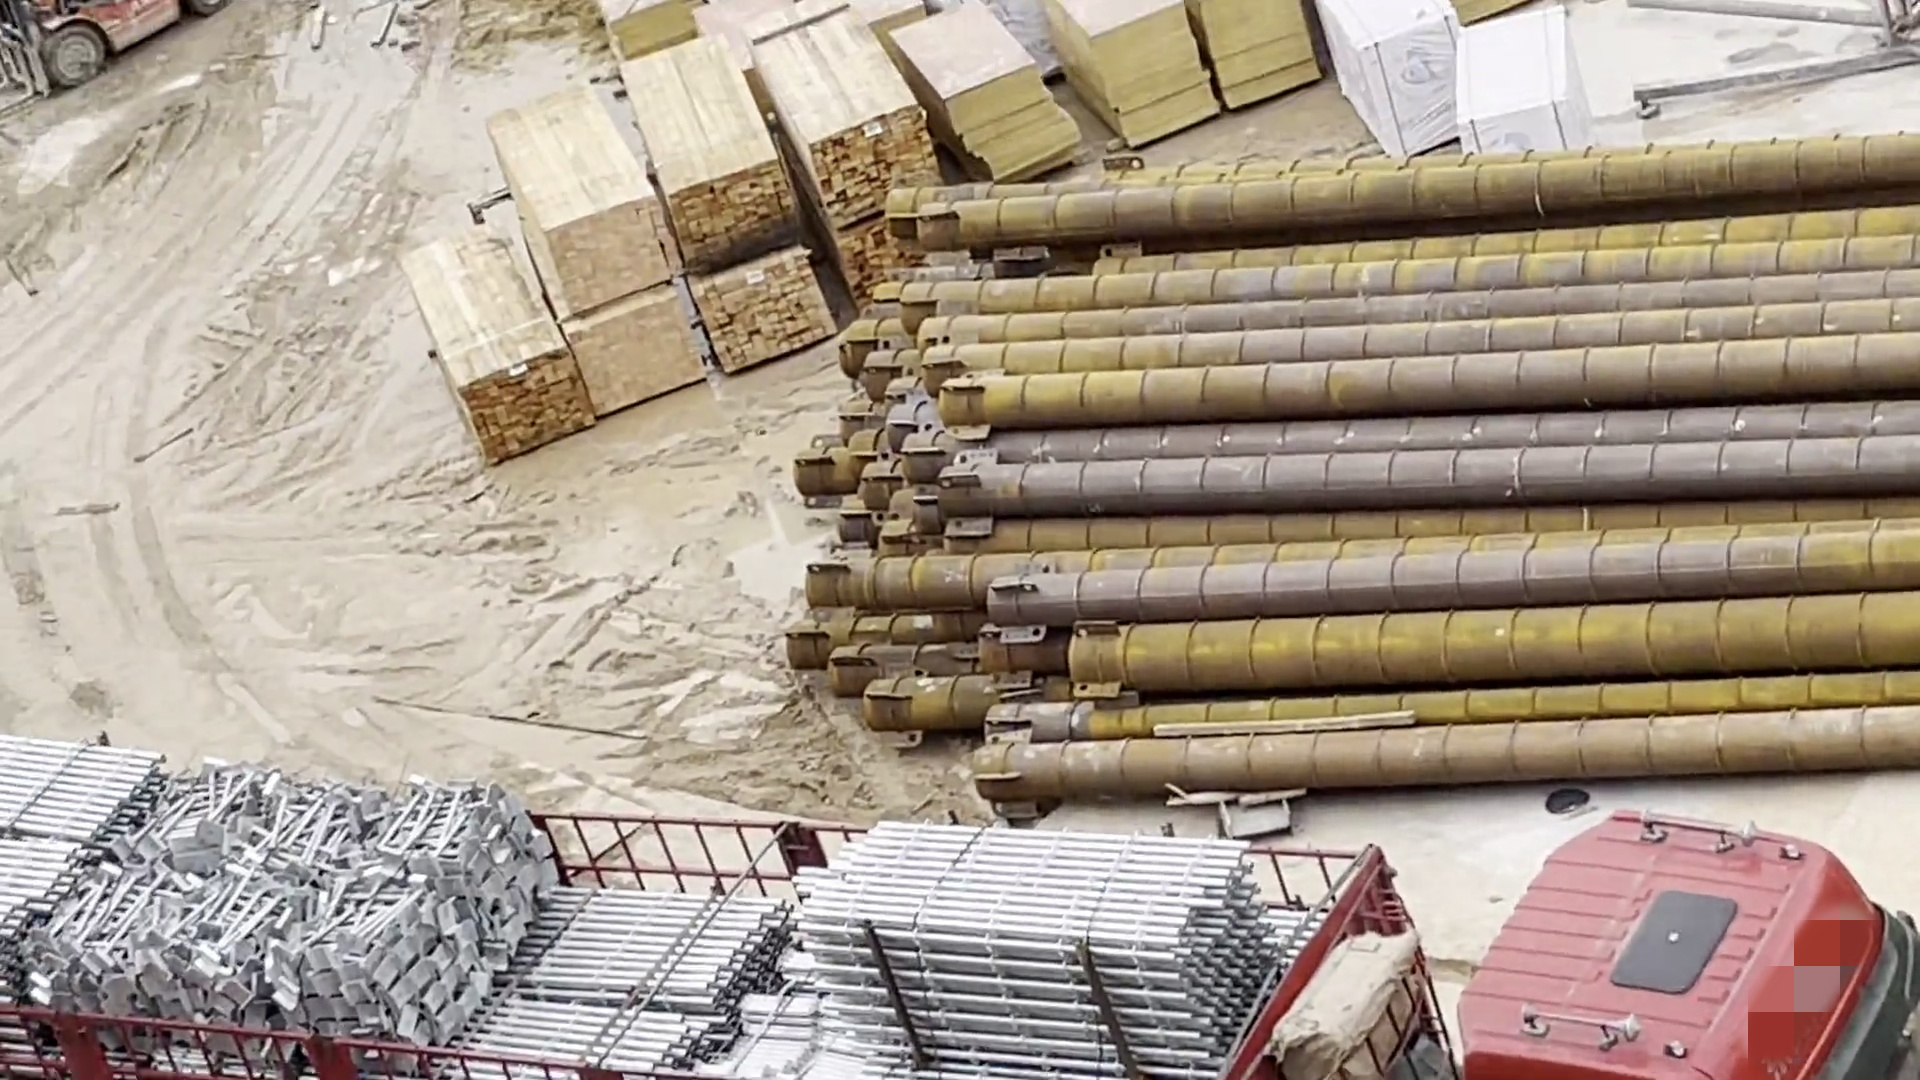board: (891, 5, 1348, 173)
scaffold: (3, 724, 1316, 1080)
wood: (480, 76, 727, 418), (617, 34, 837, 386), (754, 15, 942, 301), (392, 228, 604, 476)
